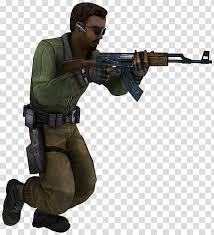gun: (60, 47, 212, 103)
